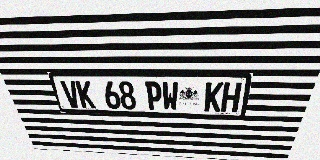6: (102, 81, 121, 109)
8: (118, 81, 136, 109)
H: (220, 82, 242, 112)
K: (204, 82, 224, 112), (75, 81, 96, 108)
P: (145, 81, 162, 110)
V: (60, 80, 82, 108)
W: (162, 82, 178, 111)
